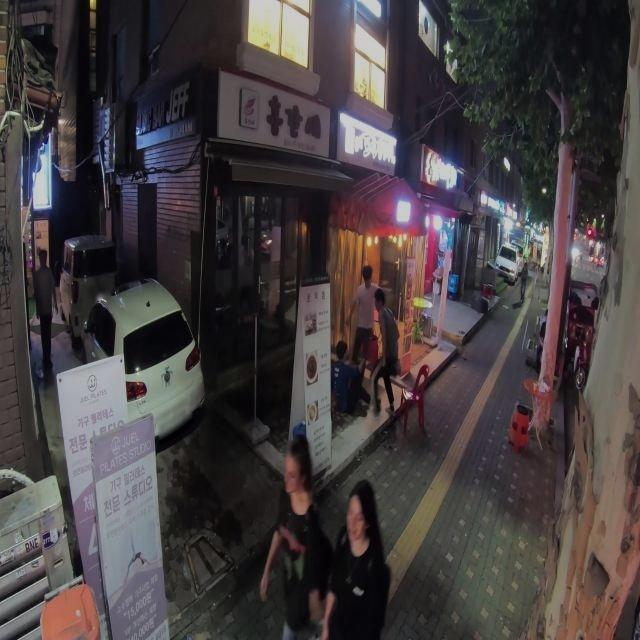fight: (334, 264, 401, 419)
non-fight: (258, 428, 327, 640), (321, 475, 392, 640)
